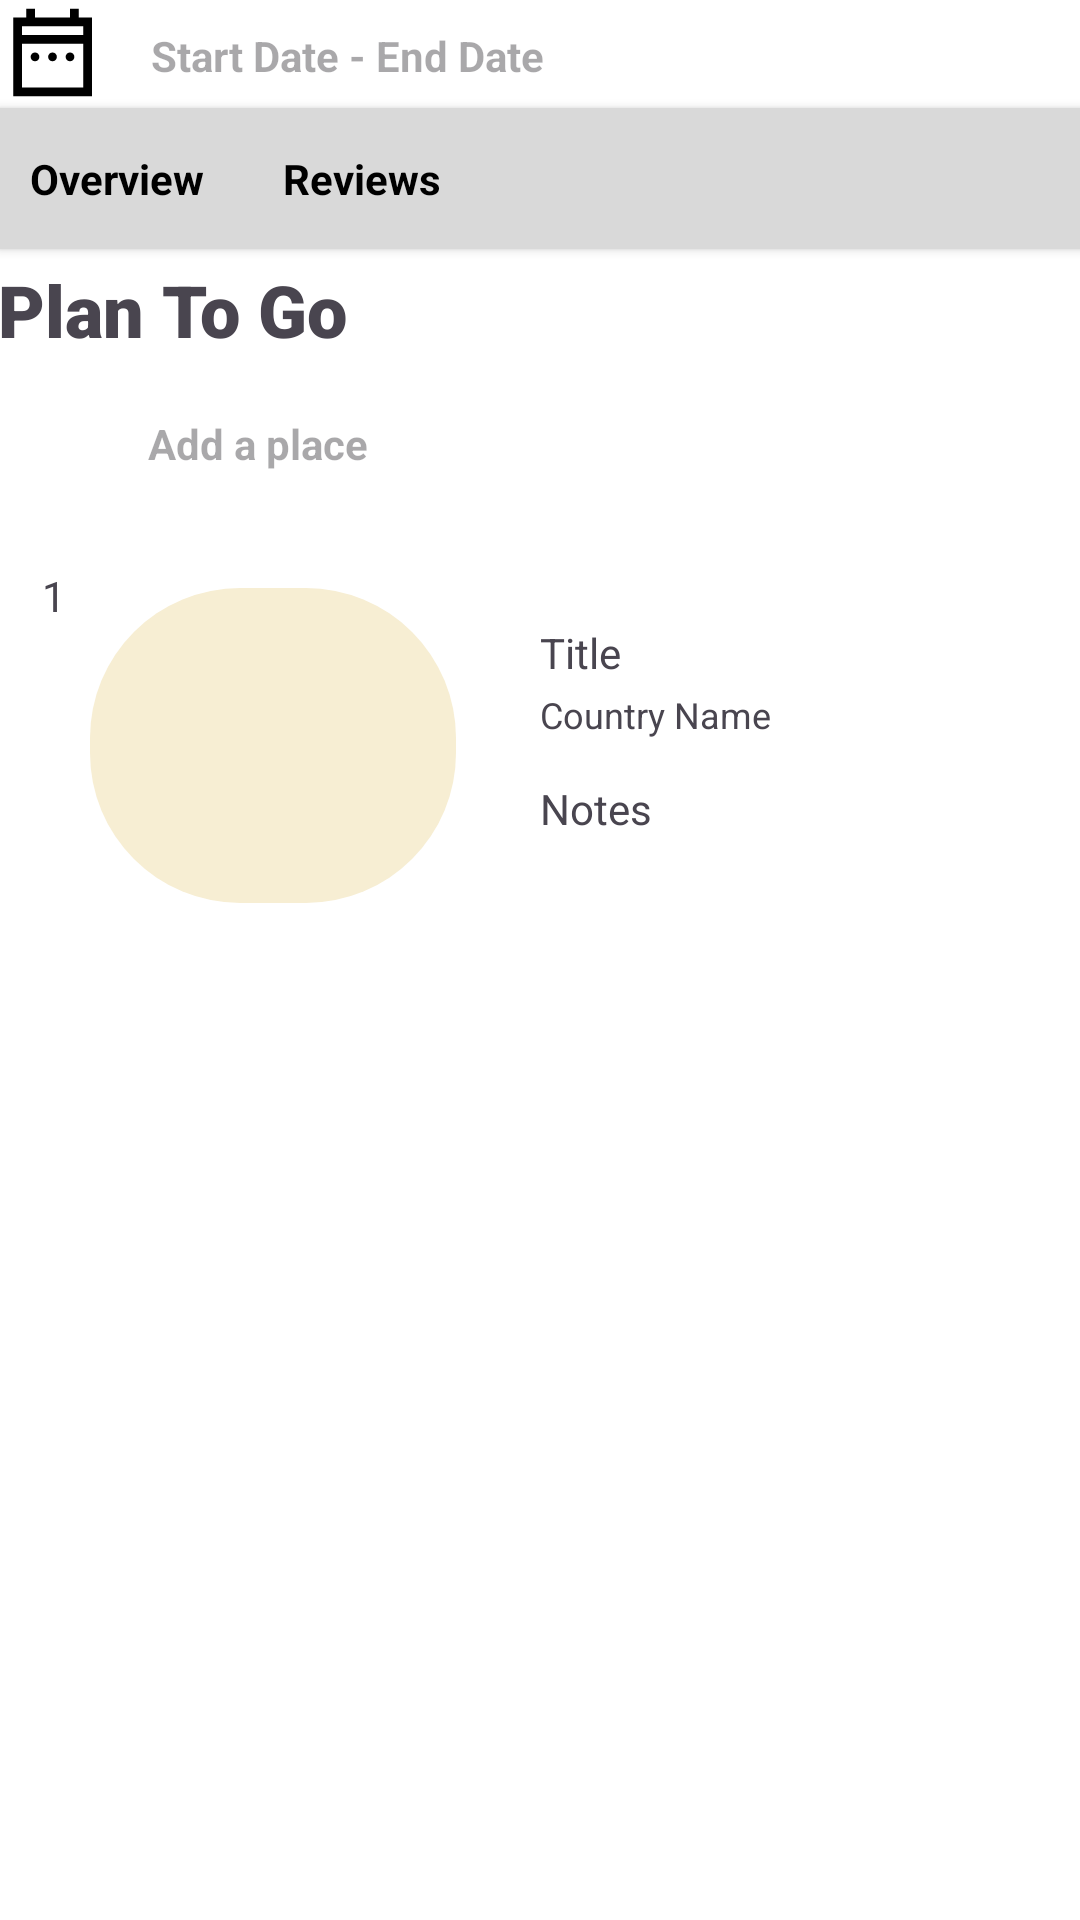

Icon bounding boxes for this 1080w x 1920h phone screenshot, format (x1, y1, x2, y2):
calendar: (13, 8, 92, 97)
